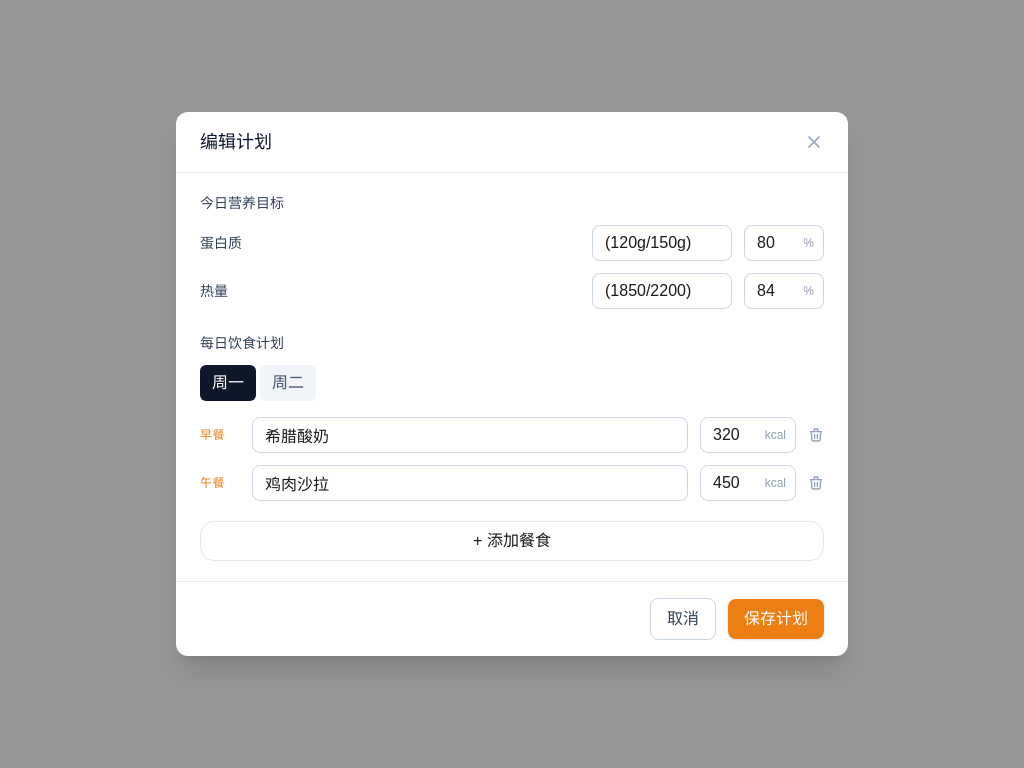
Test: EditPlanModal › T10: 点击"+ 添加餐食"后 meals 列表增加一行，且 type === 其他
Click the button "+ 添加餐食": (512, 541) [200,521,824,561]
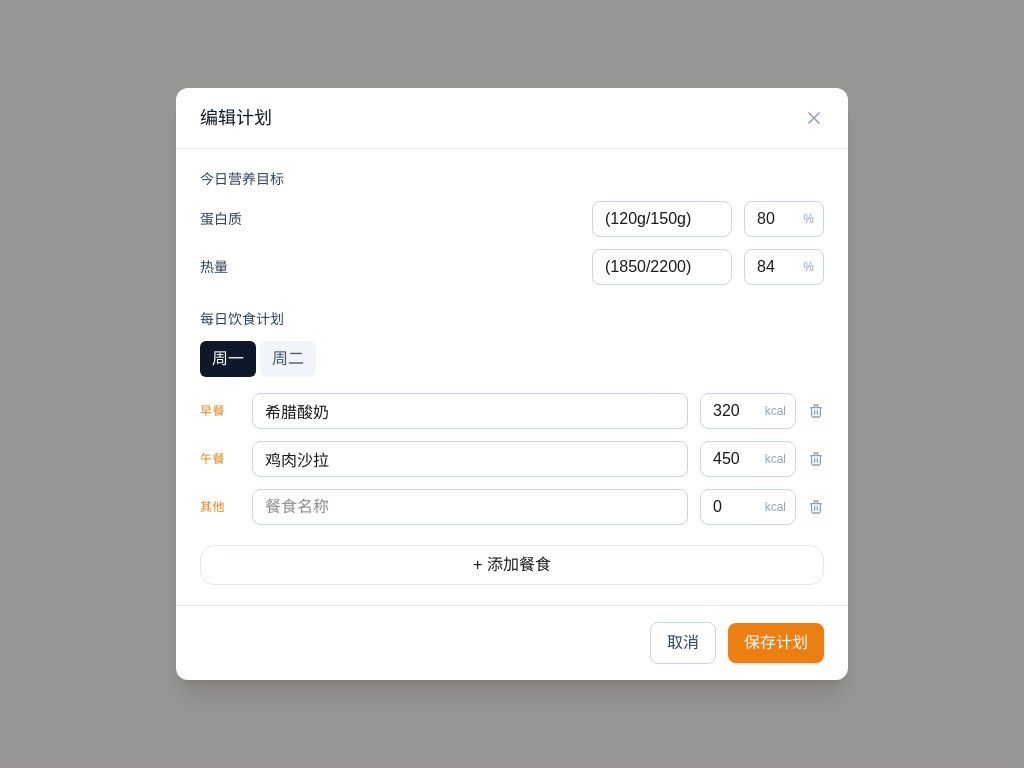
Now the number of fields with placeholder "餐食名称" is 3, box [252,393,688,429]; [252,441,688,477]; [252,489,688,525]
Now the text "其他" is shown, box [200,500,225,514]
